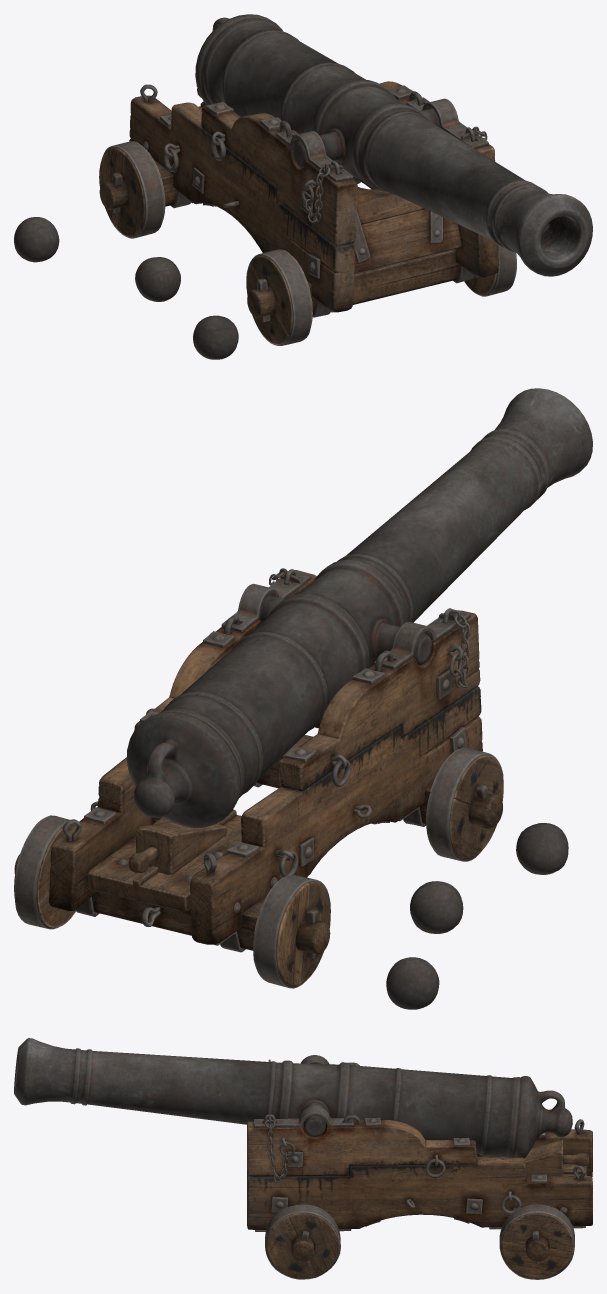
The model's file is cannon_01_2k.gltf.
3 views of the same model, one above another, from view 1: azimuth 30°, elevation 25°; view 2: azimuth 150°, elevation 25°; view 3: azimuth 270°, elevation 25° (orthographic). The views are drawn at different scales.
Visible parts, largest first — view 1: cannon_01_frame, cannon_01_barrel, cannon_01_wheel_02, cannon_01_wheel_01, cannon_01_ball_02, cannon_01_ball_03, cannon_01_ball_01, cannon_01_wheel_03; view 2: cannon_01_frame, cannon_01_barrel, cannon_01_wheel_01, cannon_01_wheel_02, cannon_01_wheel_04, cannon_01_pusherblock, cannon_01_ball_02, cannon_01_ball_03, cannon_01_ball_01; view 3: cannon_01_barrel, cannon_01_frame, cannon_01_wheel_04, cannon_01_wheel_03, cannon_01_pusherblock.
Boxes of the visible parts, bbox=[...] form: cannon_01_frame: bbox=[99, 81, 499, 322]; cannon_01_barrel: bbox=[195, 14, 592, 276]; cannon_01_wheel_02: bbox=[99, 141, 165, 238]; cannon_01_wheel_01: bbox=[246, 249, 312, 345]; cannon_01_ball_02: bbox=[135, 257, 180, 301]; cannon_01_ball_03: bbox=[14, 217, 59, 262]; cannon_01_ball_01: bbox=[193, 315, 238, 359]; cannon_01_wheel_03: bbox=[464, 245, 516, 296]; cannon_01_frame: bbox=[14, 568, 502, 958]; cannon_01_barrel: bbox=[126, 388, 592, 828]; cannon_01_wheel_01: bbox=[426, 748, 503, 861]; cannon_01_wheel_02: bbox=[253, 874, 330, 988]; cannon_01_wheel_04: bbox=[14, 815, 75, 929]; cannon_01_pusherblock: bbox=[128, 821, 227, 874]; cannon_01_ball_02: bbox=[410, 881, 463, 933]; cannon_01_ball_03: bbox=[386, 957, 439, 1009]; cannon_01_ball_01: bbox=[516, 823, 568, 874]; cannon_01_barrel: bbox=[14, 1038, 572, 1158]; cannon_01_frame: bbox=[247, 1055, 592, 1264]; cannon_01_wheel_04: bbox=[499, 1204, 574, 1279]; cannon_01_wheel_03: bbox=[265, 1204, 340, 1279]; cannon_01_pusherblock: bbox=[500, 1140, 588, 1176].
Bounding box in the file's own units: 1.28 × 0.8588 × 2.3.
Materials: 1 (1 with a texture image).
